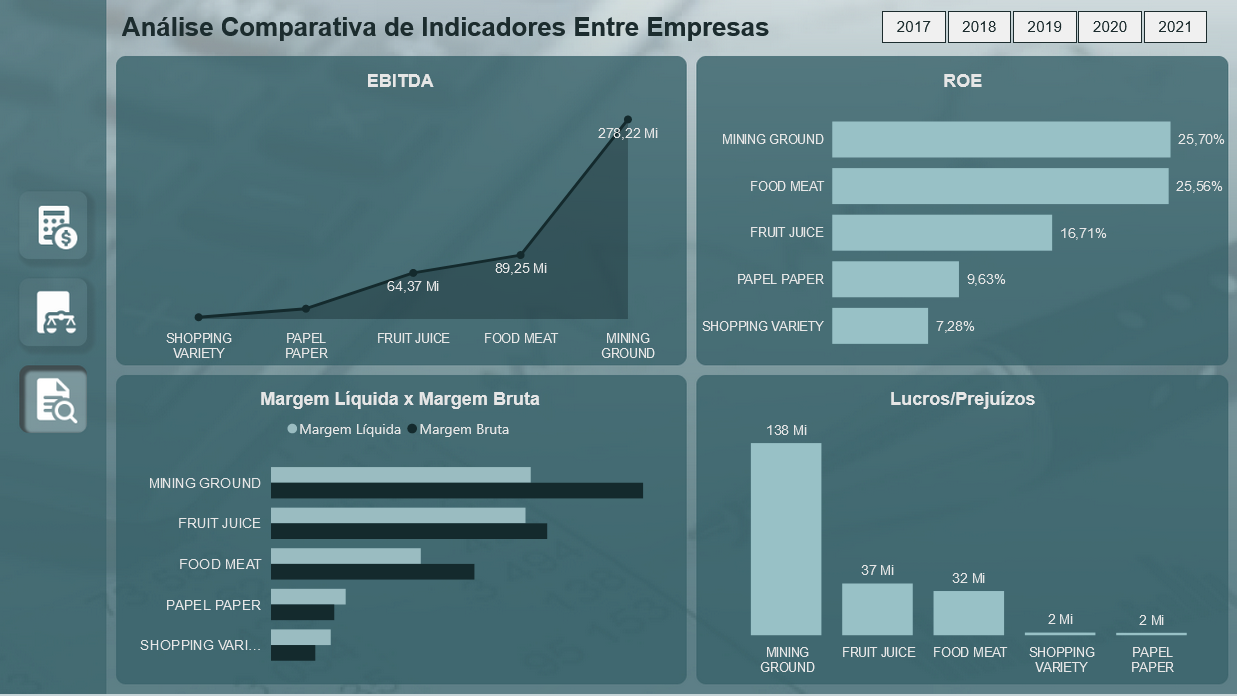

Layout of this report page (visuals, bound fields, positions):
{"tool":"powerbi","page":{"name":"Análise","canvas":[1280,720],"ordinal":2},"visuals":[{"type":"clusteredColumnChart","title":"Lucros/Prejuízos","fields":{"Category":["dEmpresas.Nome_empresa"],"Y":["Medidas.Lucro/Prejuízo Total"]},"box":[719,401.7,554.1,304.8],"z":0},{"type":"stackedAreaChart","title":"EBITDA","fields":{"Category":["dEmpresas.Nome_empresa"],"Y":["Medidas.EBITDA Total"]},"box":[120.5,72,586,308.9],"z":1000},{"type":"clusteredBarChart","title":"ROE","fields":{"Category":["dEmpresas.Nome_empresa"],"Y":["Medidas.ROE"]},"box":[719,72,554.1,308.9],"z":2000},{"type":"clusteredBarChart","title":"Margem Líquida x Margem Bruta","fields":{"Category":["dEmpresas.Nome_empresa"],"Y":["Medidas.Margem Líquida","Medidas.Margem Bruta"]},"box":[120.5,401.7,586,304.8],"z":3000},{"type":"slicer","fields":{"Values":["dCalendario.Ano"]},"box":[886.6,4.2,386.5,47.1],"z":4000},{"type":"textbox","box":[120.5,6.9,728.7,47.1],"z":5000},{"type":"actionButton","box":[12.5,192.6,87.3,83.1],"z":6000},{"type":"actionButton","box":[12.5,282.6,87.3,77.6],"z":7000},{"type":"actionButton","box":[33.2,604,47.1,36],"z":8000},{"type":"actionButton","box":[33.2,653.9,47.1,40.2],"z":9000}]}

Visuals, with their boxes on the page's 1280x720 design canvas (x1, y1, x2, y2). These are canvas units, not pixel positions in the 1237x696 screenshot, which may show the page scaled, cropped or inside an application window:
"Lucros/Prejuízos" clusteredColumnChart: (719, 402, 1273, 706)
"EBITDA" stackedAreaChart: (120, 72, 706, 381)
"ROE" clusteredBarChart: (719, 72, 1273, 381)
"Margem Líquida x Margem Bruta" clusteredBarChart: (120, 402, 706, 706)
slicer - dCalendario.Ano: (887, 4, 1273, 51)
textbox: (120, 7, 849, 54)
actionButton: (12, 193, 100, 276)
actionButton: (12, 283, 100, 360)
actionButton: (33, 604, 80, 640)
actionButton: (33, 654, 80, 694)
